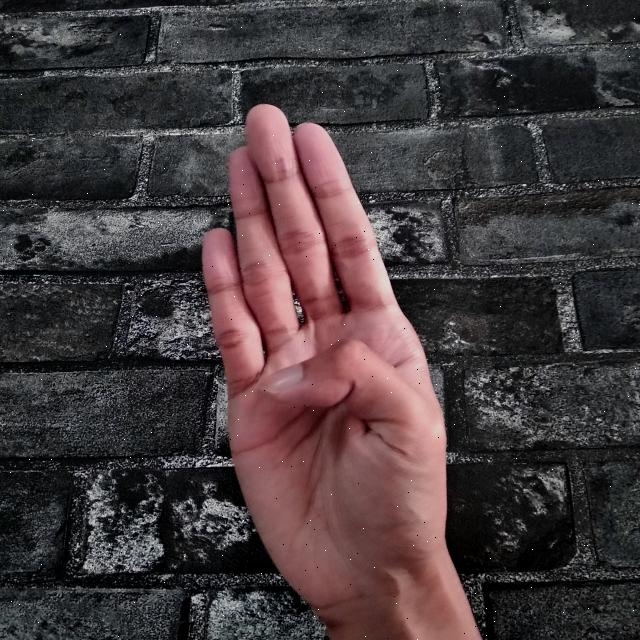B: (192, 95, 491, 640)
